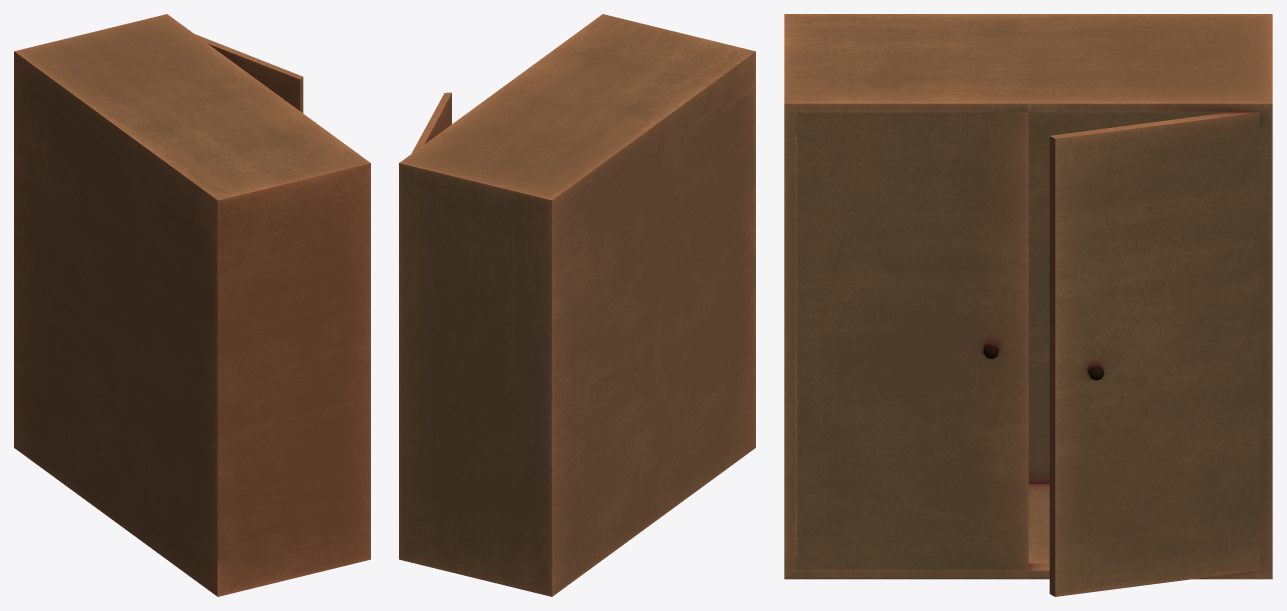
File: Armadio.obj
3 views of the same model, side by side, from view 1: azimuth 30°, elevation 25°; view 2: azimuth 150°, elevation 25°; view 3: azimuth 270°, elevation 25° (orthographic). The views are drawn at different scales.
Visible parts, largest first — view 1: Pomello_comodino.004_Sphere.006; view 2: Pomello_comodino.004_Sphere.006; view 3: Pomello_comodino.004_Sphere.006.
Part boxes in pixels (box(x1,y1,x2,y2)): Pomello_comodino.004_Sphere.006: box(14, 14, 370, 596); Pomello_comodino.004_Sphere.006: box(399, 14, 755, 596); Pomello_comodino.004_Sphere.006: box(784, 14, 1272, 596).
Bounding box in the file's own units: 2.61 × 4.95 × 4.61.
